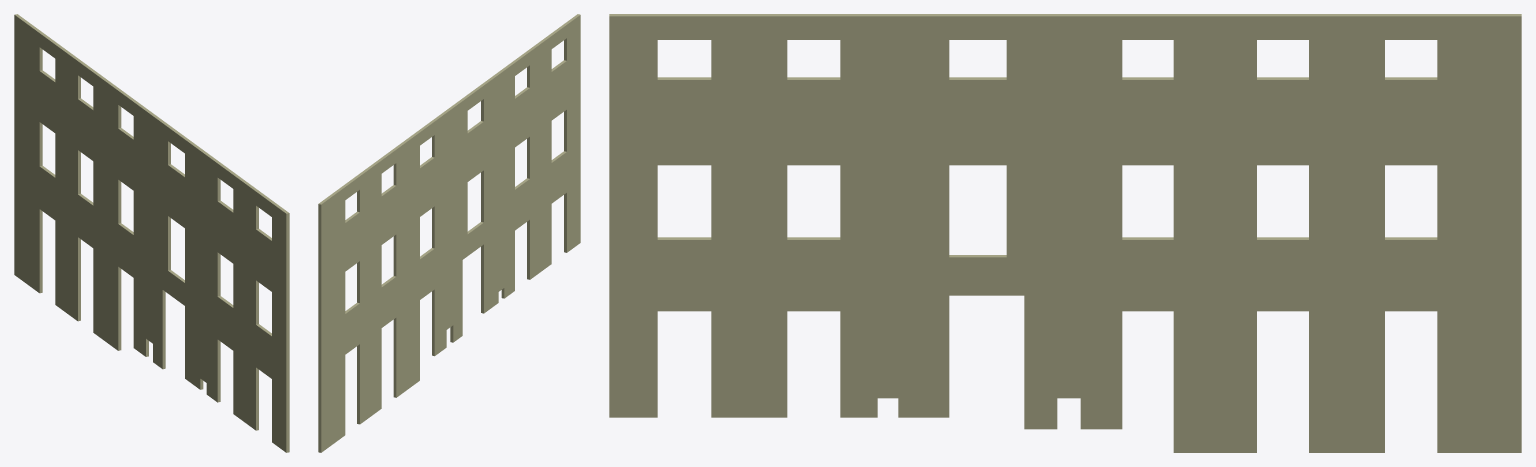
Rendered from parete-facciata.fbx.
The picture shows the model from 3 angles, left to right: view 1: azimuth 30°, elevation 25°; view 2: azimuth 150°, elevation 25°; view 3: azimuth 270°, elevation 25°; orthographic projection. The views are drawn at different scales.
Parts seen in each view (by area): view 1: Parete facciata; view 2: Parete facciata; view 3: Parete facciata.
Boxes of the visible parts, box(x1,y1,x2,y2) form: Parete facciata: box(14, 14, 289, 452); Parete facciata: box(318, 14, 580, 452); Parete facciata: box(609, 14, 1521, 452).
Size of the model in its own units: 19.39 by 1587 by 3005.
